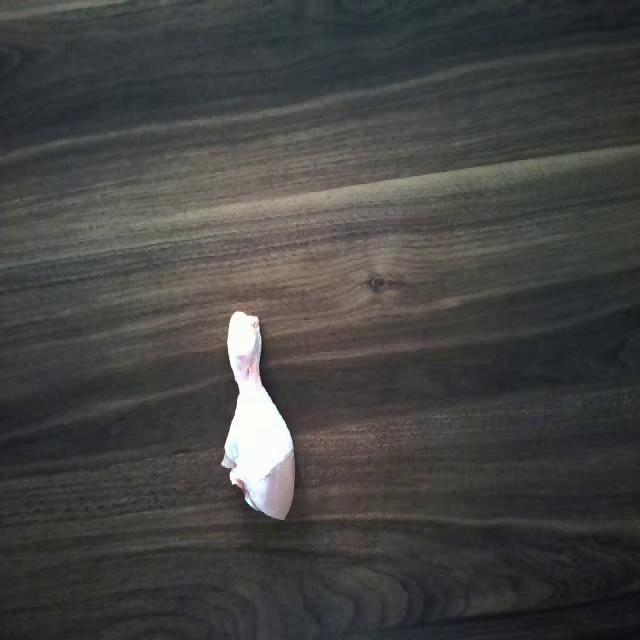leg: (217, 308, 297, 520)
